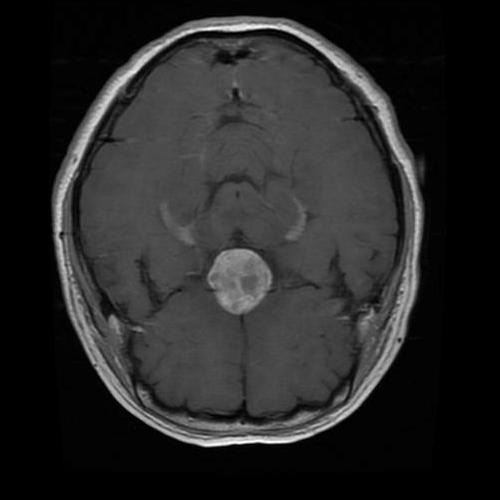Tumour-Pituitary: (206, 245, 279, 320)
